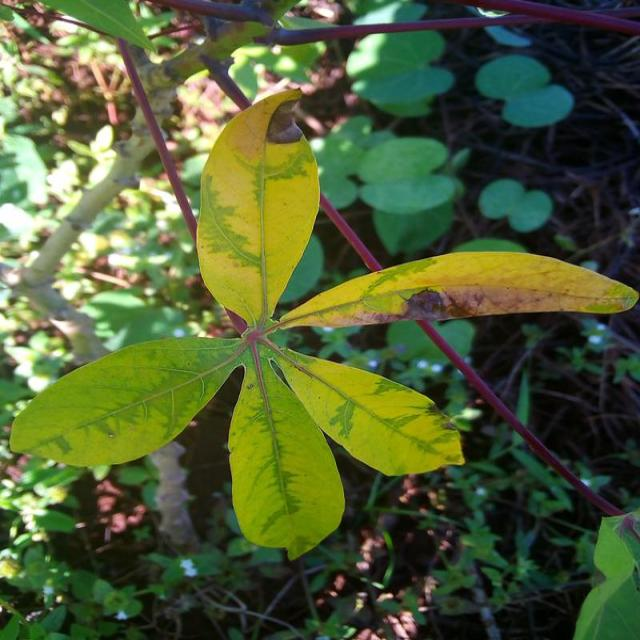cassava leaf: (8, 85, 638, 559), (194, 85, 320, 330), (276, 248, 638, 332), (227, 345, 345, 560)
